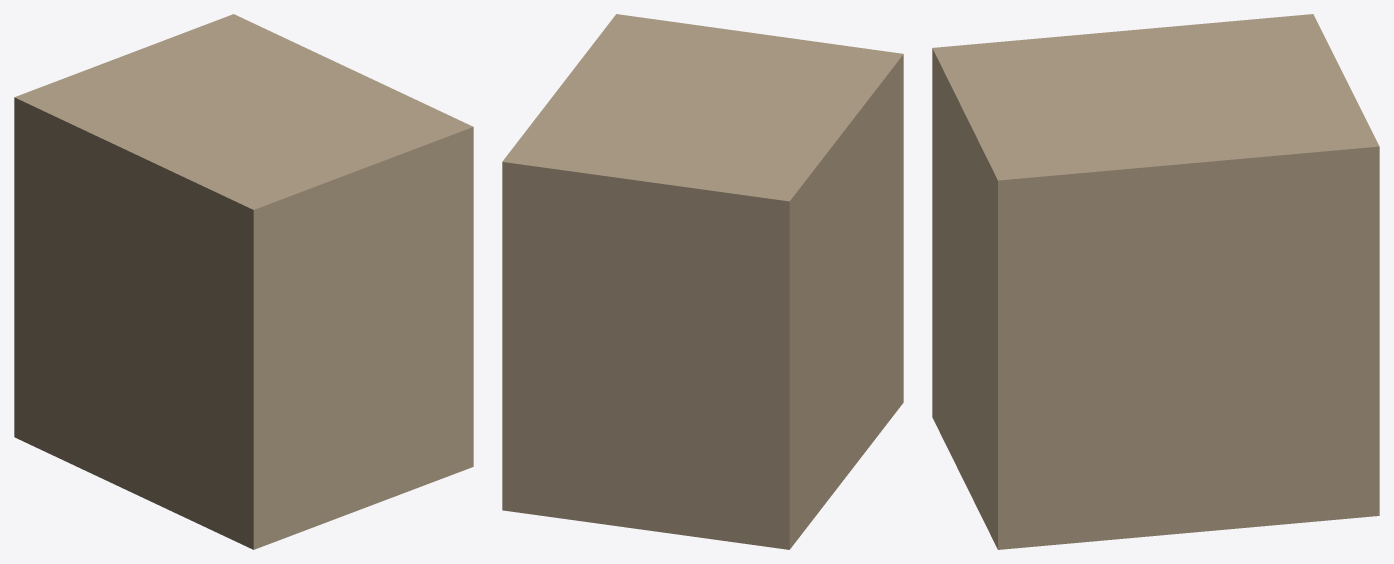
Rendered from bld_106297867.dae.
The picture shows the model from 3 angles, left to right: view 1: azimuth 30°, elevation 25°; view 2: azimuth 150°, elevation 25°; view 3: azimuth 270°, elevation 25°; orthographic projection. The views are drawn at different scales.
Parts seen in each view (by area): view 1: bld_106297867; view 2: bld_106297867; view 3: bld_106297867.
Boxes of the visible parts, x1,y1,x2,y2 form: bld_106297867: [14, 14, 473, 549]; bld_106297867: [502, 14, 903, 549]; bld_106297867: [932, 14, 1379, 549].
Size of the model in its own units: 7.74 by 8.78 by 8.
